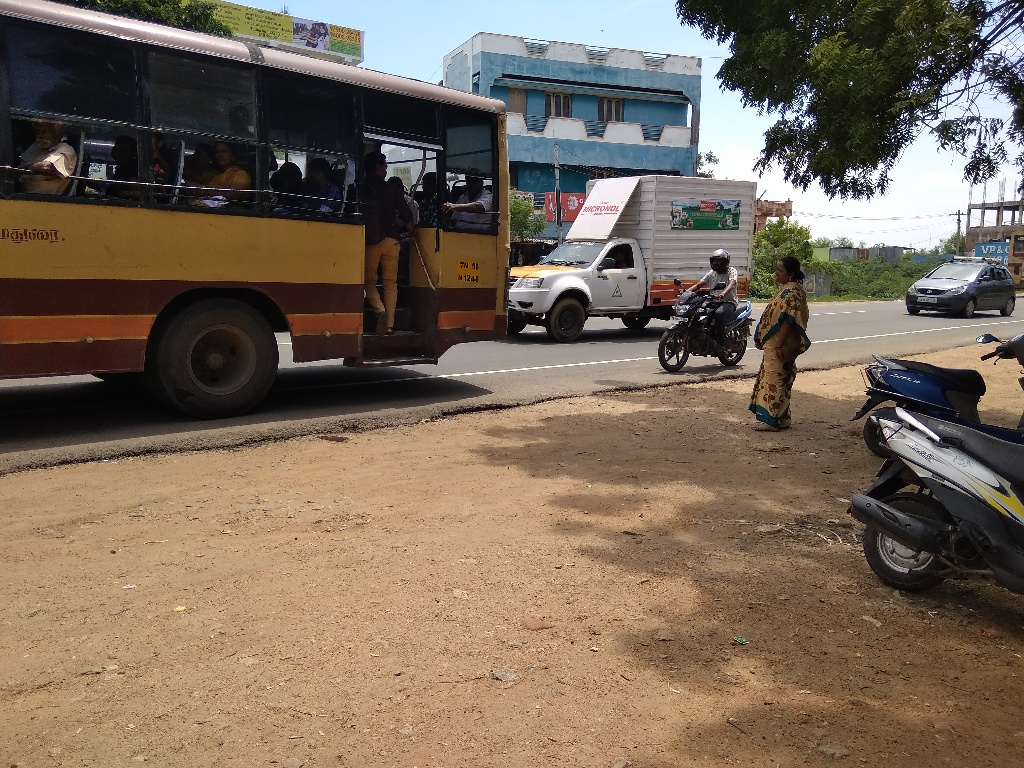biker: (643, 222, 756, 382)
helmet: (703, 238, 737, 283)
